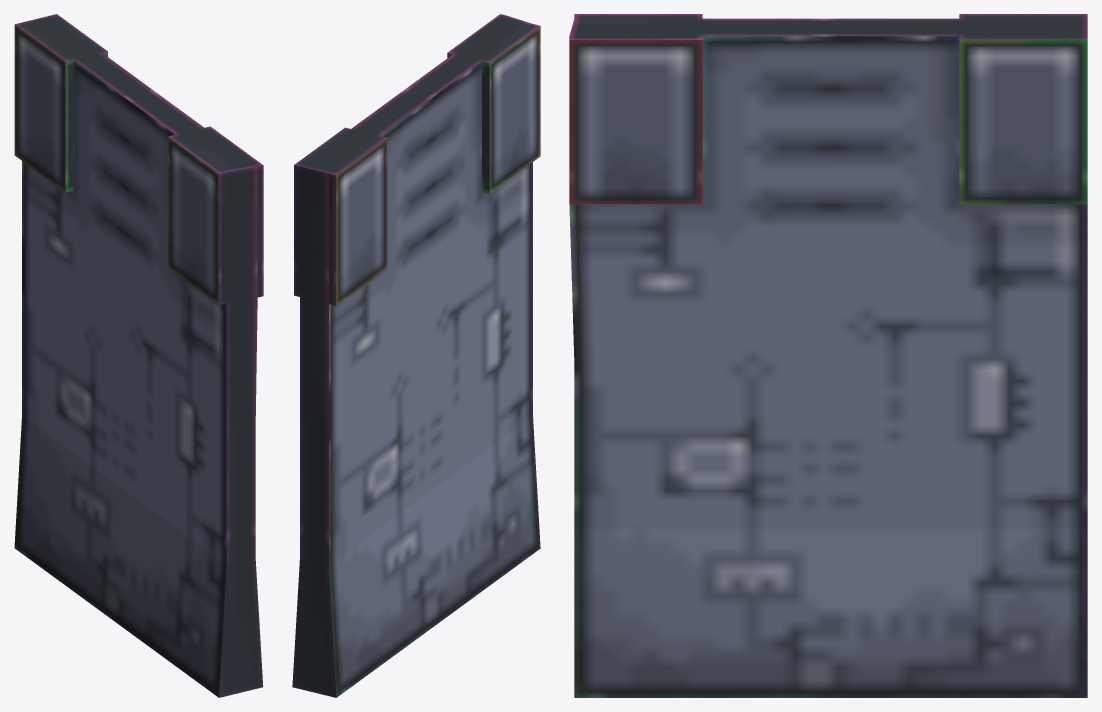
Rendered from Door_Mesh.fbx.
3 views of the same model, side by side, from view 1: azimuth 30°, elevation 25°; view 2: azimuth 150°, elevation 25°; view 3: azimuth 270°, elevation 25° (orthographic). The views are drawn at different scales.
Visible parts, largest first — view 1: Cube; view 2: Cube; view 3: Cube.
Part boxes in pixels (<box>): Cube: <box>14,14,263,697</box>; Cube: <box>292,14,540,697</box>; Cube: <box>569,14,1087,697</box>.
Bounding box in the file's own units: 0.2388 × 2.71 × 1.94.
